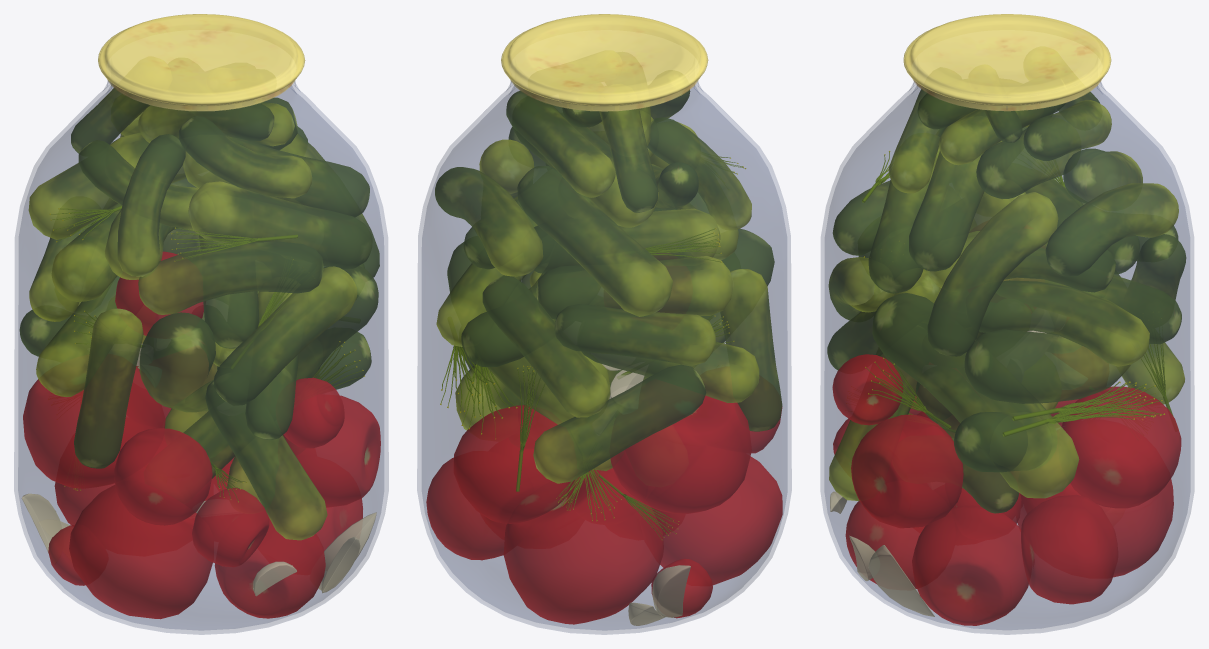
The model's file is curtido.glb.
3 renders of one model, left to right at view 1: azimuth 30°, elevation 25°; view 2: azimuth 150°, elevation 25°; view 3: azimuth 270°, elevation 25°, orthographic.
Parts seen in each view (by area): view 1: defaultMaterial.002, defaultMaterial.001, defaultMaterial.006, defaultMaterial.058, defaultMaterial.046, defaultMaterial.053, defaultMaterial.044, defaultMaterial.014, defaultMaterial.040, defaultMaterial.031, defaultMaterial.012, defaultMaterial.034 (+32 smaller); view 2: defaultMaterial.002, defaultMaterial.004, defaultMaterial.001, defaultMaterial.012, defaultMaterial.050, defaultMaterial.032, defaultMaterial.013, defaultMaterial.006, defaultMaterial.039, defaultMaterial.042, defaultMaterial.058, defaultMaterial.051 (+23 smaller); view 3: defaultMaterial.002, defaultMaterial.001, defaultMaterial.035, defaultMaterial.008, defaultMaterial.013, defaultMaterial.003, defaultMaterial.055, defaultMaterial.033, defaultMaterial.005, defaultMaterial.049, defaultMaterial.051, defaultMaterial.054 (+27 smaller).
Boxes of the visible parts, bbox=[...] form: defaultMaterial.002: bbox=[14, 81, 388, 634]; defaultMaterial.001: bbox=[98, 14, 305, 111]; defaultMaterial.006: bbox=[69, 485, 212, 618]; defaultMaterial.058: bbox=[78, 134, 198, 276]; defaultMaterial.046: bbox=[138, 241, 323, 314]; defaultMaterial.053: bbox=[188, 181, 372, 269]; defaultMaterial.044: bbox=[213, 266, 357, 405]; defaultMaterial.014: bbox=[114, 428, 212, 525]; defaultMaterial.040: bbox=[74, 308, 143, 468]; defaultMaterial.031: bbox=[205, 380, 327, 540]; defaultMaterial.012: bbox=[23, 367, 165, 488]; defaultMaterial.034: bbox=[139, 312, 217, 412]; defaultMaterial.002: bbox=[417, 81, 791, 634]; defaultMaterial.004: bbox=[503, 469, 663, 624]; defaultMaterial.001: bbox=[501, 14, 708, 111]; defaultMaterial.012: bbox=[610, 395, 751, 513]; defaultMaterial.050: bbox=[517, 166, 672, 316]; defaultMaterial.032: bbox=[533, 364, 705, 483]; defaultMaterial.013: bbox=[453, 405, 574, 523]; defaultMaterial.006: bbox=[651, 456, 782, 584]; defaultMaterial.039: bbox=[482, 275, 609, 417]; defaultMaterial.042: bbox=[554, 304, 715, 365]; defaultMaterial.058: bbox=[647, 117, 751, 230]; defaultMaterial.051: bbox=[435, 167, 542, 276]; defaultMaterial.002: bbox=[820, 81, 1194, 634]; defaultMaterial.001: bbox=[903, 14, 1111, 111]; defaultMaterial.035: bbox=[872, 293, 1079, 498]; defaultMaterial.008: bbox=[912, 505, 1028, 625]; defaultMaterial.013: bbox=[1061, 386, 1181, 508]; defaultMaterial.003: bbox=[851, 414, 963, 528]; defaultMaterial.055: bbox=[927, 192, 1058, 356]; defaultMaterial.033: bbox=[964, 329, 1130, 403]; defaultMaterial.005: bbox=[1021, 494, 1118, 604]; defaultMaterial.049: bbox=[979, 280, 1149, 366]; defaultMaterial.051: bbox=[1045, 183, 1178, 276]; defaultMaterial.054: bbox=[909, 140, 1002, 271].
Bounding box in the file's own units: 0.0692 × 0.1078 × 0.0692.
Materials: 232 (231 with a texture image).
